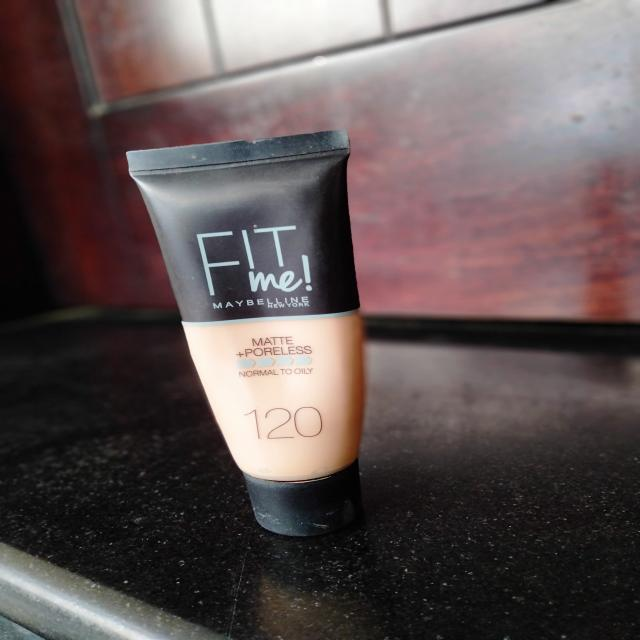bb cream: (114, 121, 393, 554)
